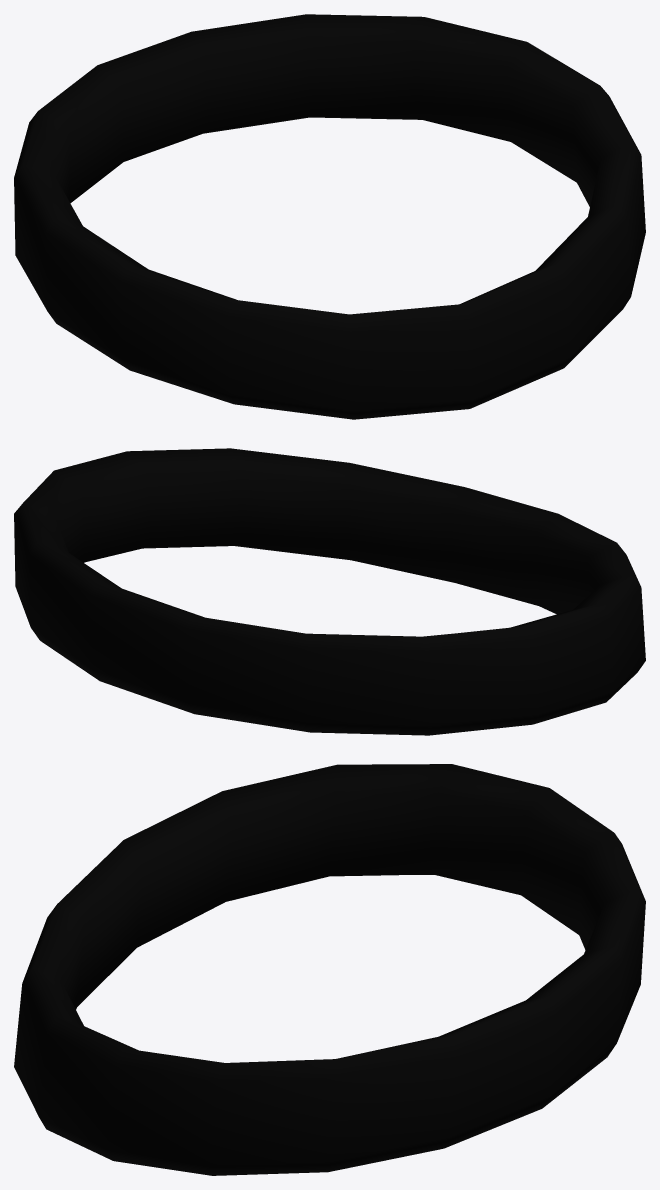
The model's file is necklace1.glb.
3 renders of one model, top to bottom at view 1: azimuth 30°, elevation 25°; view 2: azimuth 150°, elevation 25°; view 3: azimuth 270°, elevation 25°, orthographic. The views are drawn at different scales.
Visible parts, largest first — view 1: necklace.001; view 2: necklace.001; view 3: necklace.001.
Boxes of the visible parts, bbox=[...] form: necklace.001: bbox=[14, 14, 645, 419]; necklace.001: bbox=[14, 448, 645, 735]; necklace.001: bbox=[14, 764, 645, 1175].
Size of the model in its own units: 0.5766 by 0.1687 by 0.5042.
1 material, 1 textured.
